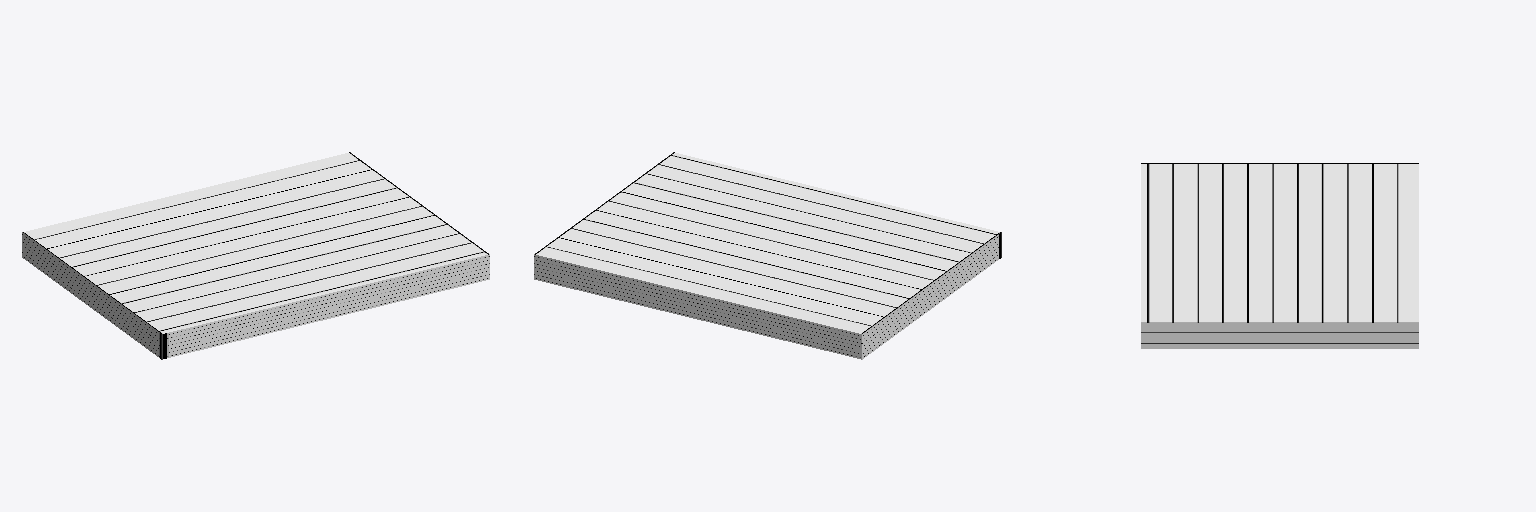
3 views of the same model, side by side, from view 1: azimuth 30°, elevation 25°; view 2: azimuth 150°, elevation 25°; view 3: azimuth 270°, elevation 25° (orthographic).
Parts seen in each view (by area): view 1: Cube; view 2: Cube; view 3: Cube.
Boxes of the visible parts, box(x1,y1,x2,y2) form: Cube: box(22, 152, 489, 359); Cube: box(534, 152, 1001, 359); Cube: box(1141, 163, 1418, 348).
Bounding box in the file's own units: 1.35 × 0.1 × 0.994.
1 materials, 1 textured.